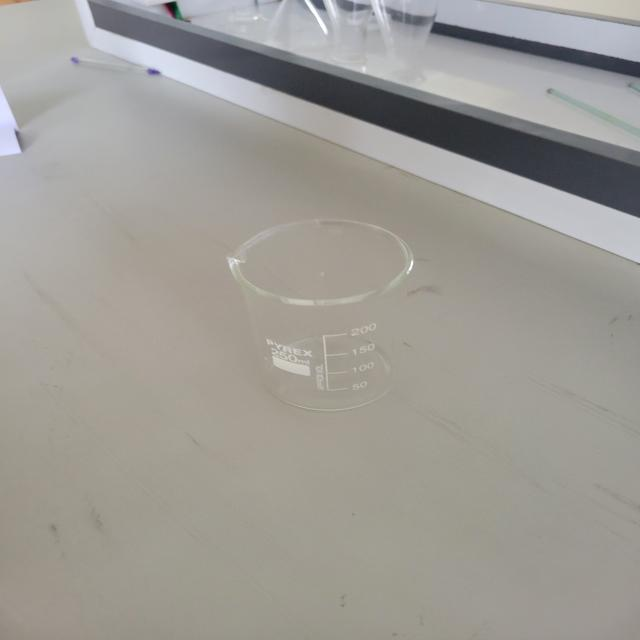Beaker: (223, 214, 429, 423)
